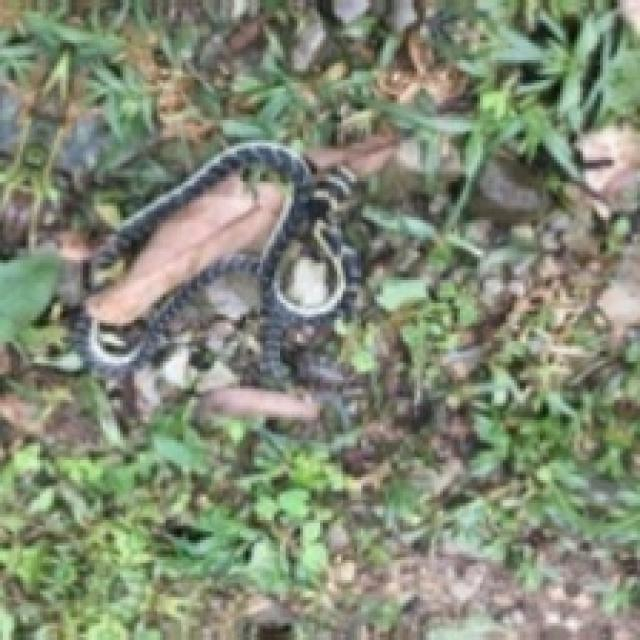king cobra: (74, 140, 357, 374)
